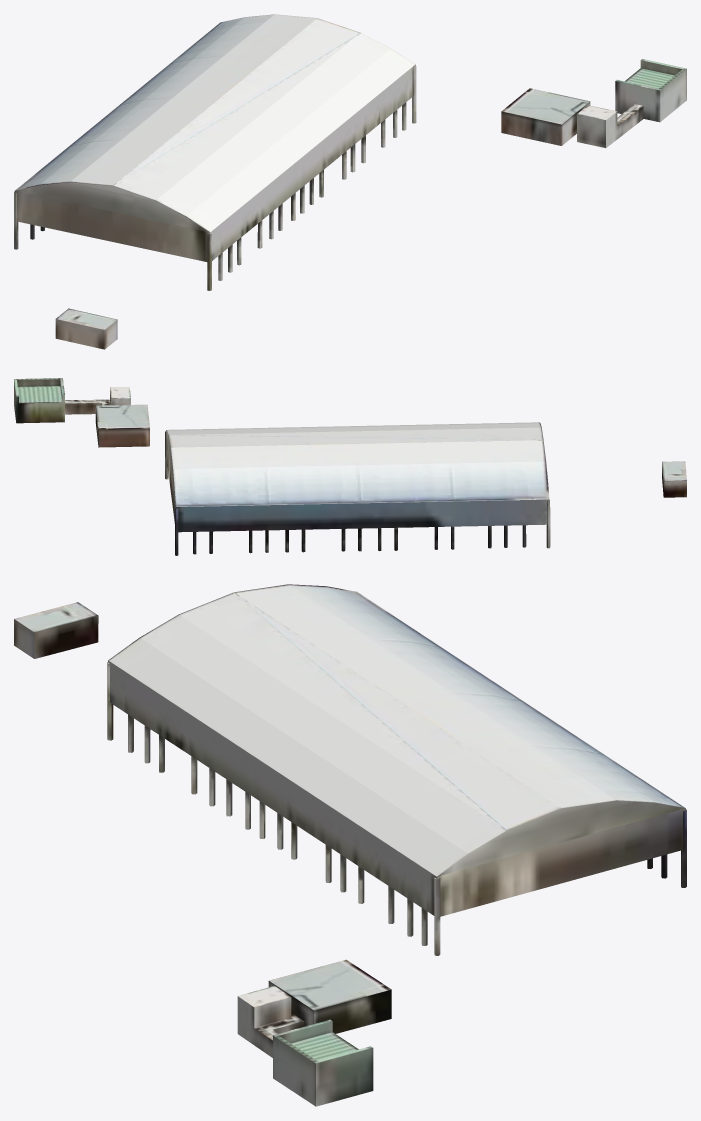
The model's file is 2023-lod3-station-0-0-packed.glb.
The picture shows the model from 3 angles, top to bottom: view 1: azimuth 30°, elevation 25°; view 2: azimuth 150°, elevation 25°; view 3: azimuth 270°, elevation 25°; orthographic projection. The views are drawn at different scales.
Bounding box in the file's own units: 74.78 × 8.35 × 44.67.
2 materials, 1 textured.
